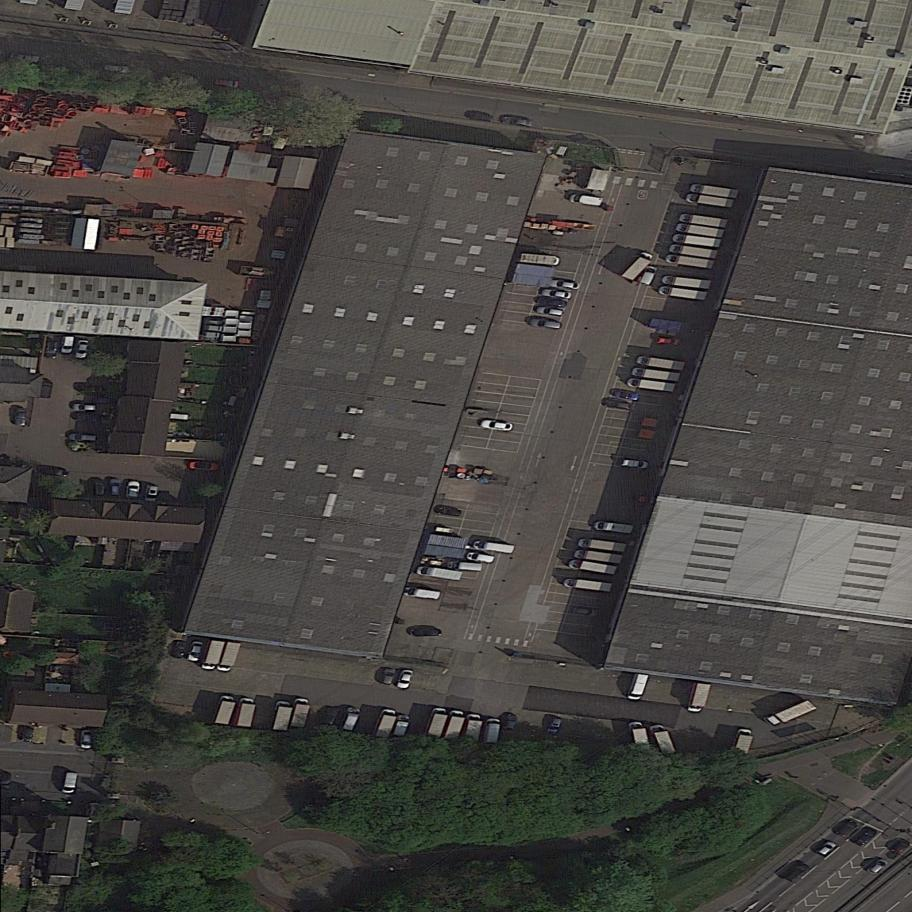large-vehicle: (762, 697, 818, 730), (618, 245, 658, 286), (369, 704, 400, 745), (421, 703, 451, 745), (648, 718, 678, 759), (214, 637, 243, 677), (441, 705, 469, 746), (198, 636, 226, 675), (211, 691, 239, 730), (269, 697, 296, 736), (566, 558, 620, 576), (730, 724, 757, 760), (232, 695, 258, 732), (673, 222, 726, 240), (634, 355, 687, 373), (561, 576, 614, 594), (627, 718, 652, 756), (624, 669, 651, 704), (689, 182, 741, 200), (687, 680, 713, 716), (663, 253, 716, 270), (667, 243, 720, 260), (571, 548, 624, 565), (576, 537, 629, 554), (657, 285, 709, 302), (677, 212, 729, 229), (684, 192, 736, 209), (289, 695, 313, 731), (462, 712, 485, 749), (629, 366, 682, 382), (660, 274, 713, 290), (670, 232, 723, 248), (624, 377, 677, 393), (338, 703, 363, 736), (590, 519, 636, 535), (390, 711, 413, 742), (481, 716, 502, 748), (516, 253, 562, 267), (567, 192, 605, 207)
small-vehicle: (413, 564, 465, 582), (782, 859, 813, 887), (472, 539, 516, 556), (402, 584, 442, 602), (833, 816, 860, 842), (852, 824, 879, 850), (866, 854, 891, 879), (813, 837, 839, 861), (638, 262, 660, 289), (320, 703, 342, 729), (465, 549, 498, 566), (6, 51, 43, 66), (539, 286, 575, 301), (396, 665, 416, 692), (170, 636, 191, 661), (186, 639, 206, 665), (500, 115, 536, 129), (378, 664, 399, 688), (545, 714, 565, 739), (60, 770, 79, 796), (535, 295, 570, 309), (479, 419, 516, 432), (123, 479, 143, 503), (501, 711, 520, 735), (548, 279, 583, 292), (528, 318, 563, 331), (73, 337, 91, 362), (610, 389, 642, 403), (99, 62, 133, 75), (600, 398, 634, 411), (69, 411, 105, 423), (187, 460, 222, 472), (37, 379, 56, 401), (619, 457, 651, 470), (37, 466, 71, 478), (447, 561, 484, 572), (43, 339, 61, 361), (107, 477, 124, 500), (211, 76, 241, 89), (534, 305, 566, 317), (143, 482, 160, 504), (58, 334, 75, 356), (66, 432, 100, 443), (465, 111, 496, 123), (572, 606, 602, 618), (433, 506, 463, 518), (13, 406, 29, 428), (655, 335, 683, 347), (92, 478, 107, 499), (408, 628, 443, 637), (71, 402, 102, 412), (75, 385, 109, 394), (79, 730, 94, 750), (655, 326, 679, 337), (20, 725, 35, 742)
